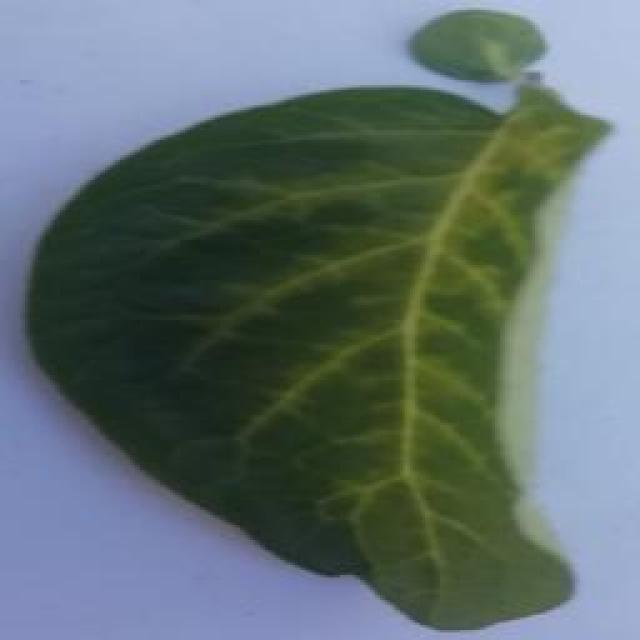Potato_Healthy: (22, 19, 604, 630)
